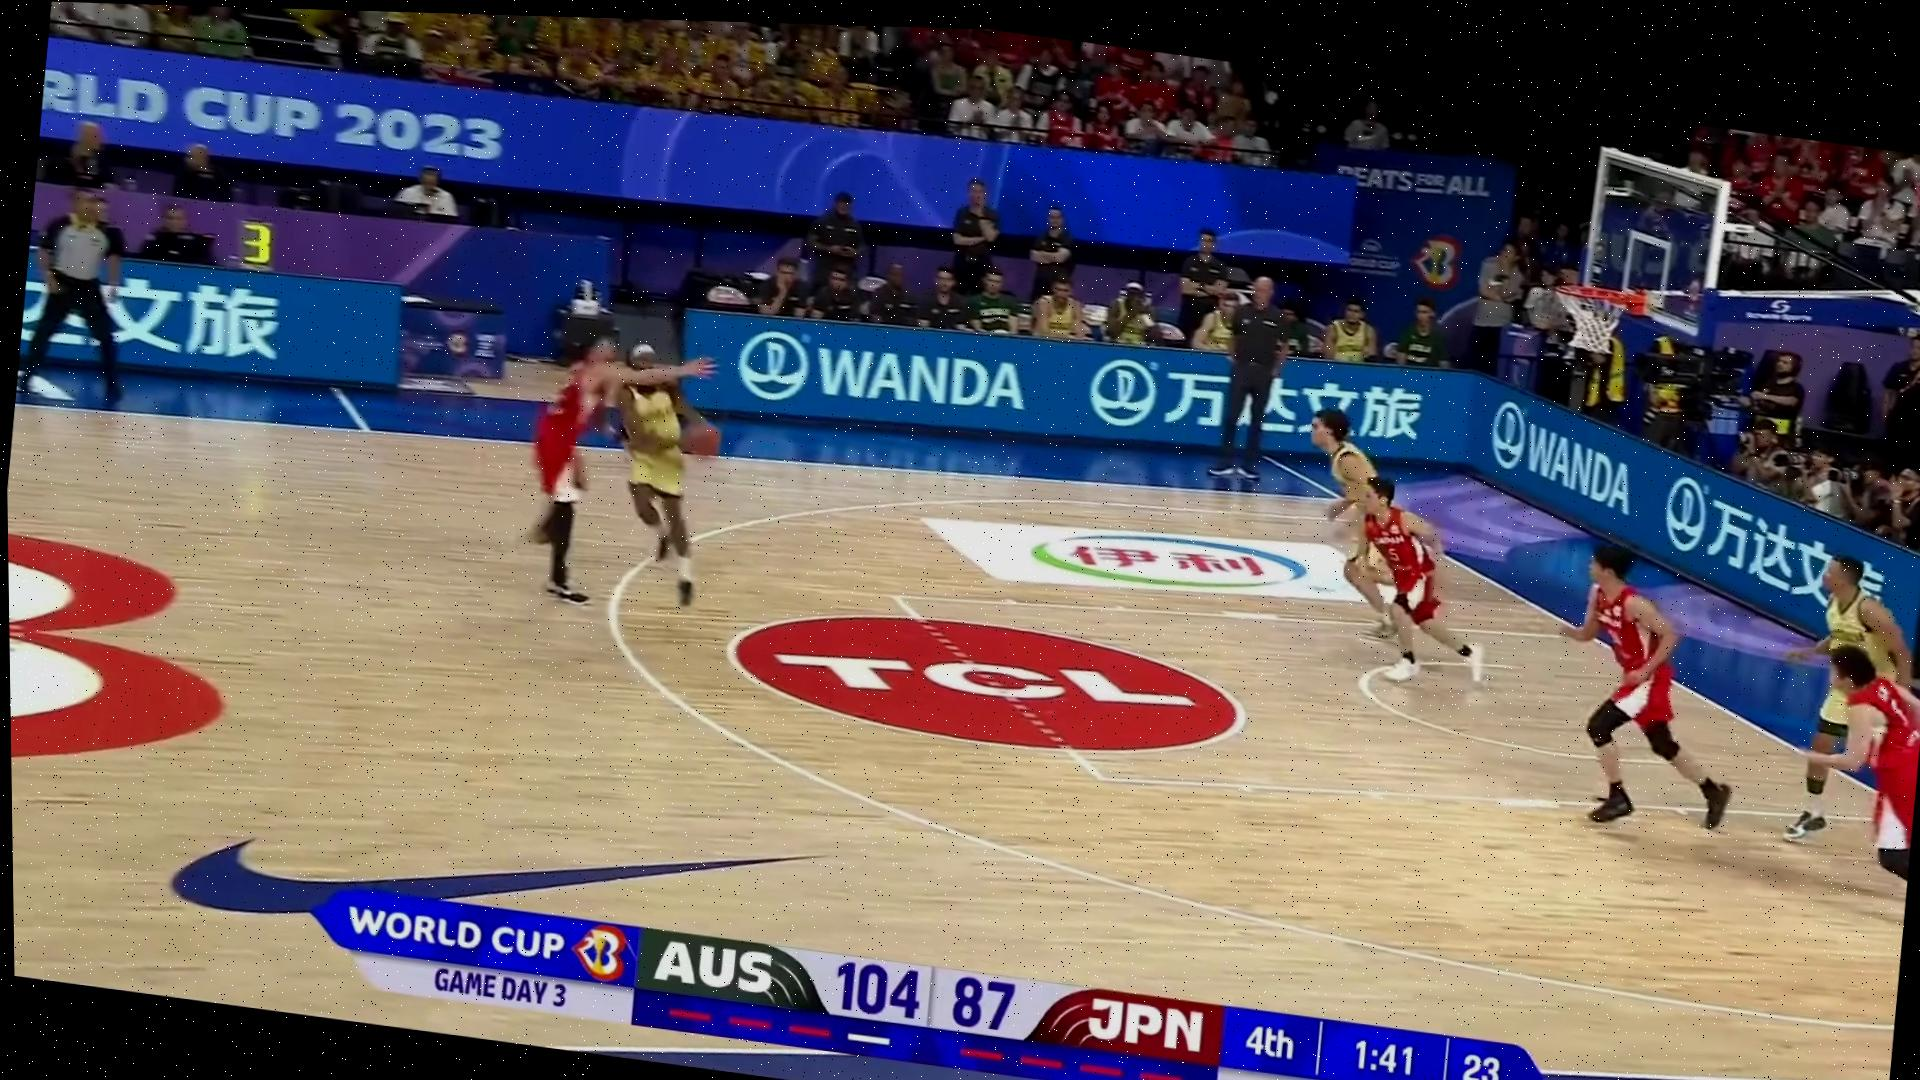foul: (509, 313, 760, 649)
